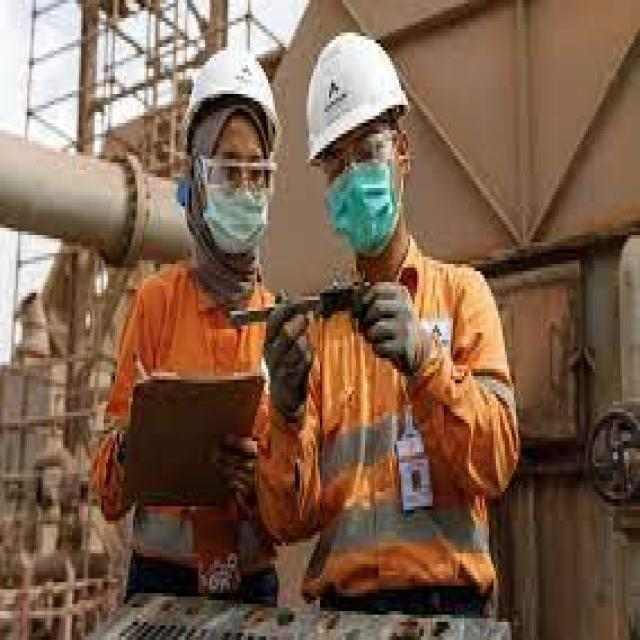glasses: (322, 126, 398, 181), (202, 155, 278, 203)
